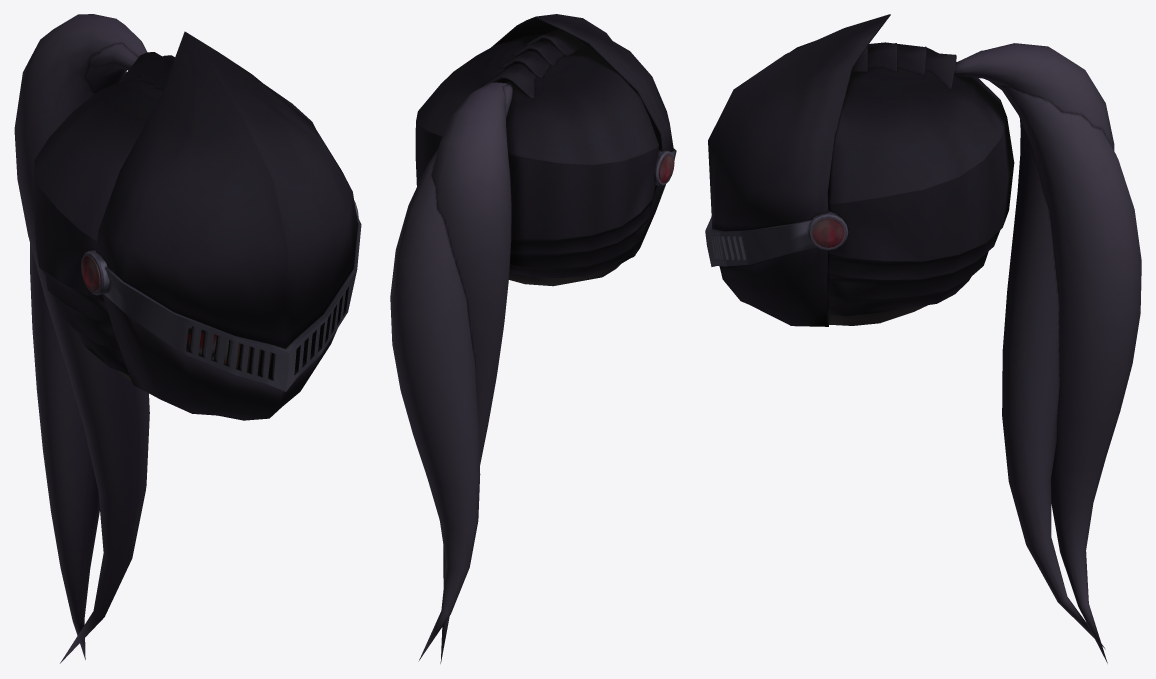
The model's file is BlackKnight_Helmet.fbx.
3 renders of one model, left to right at view 1: azimuth 30°, elevation 25°; view 2: azimuth 150°, elevation 25°; view 3: azimuth 270°, elevation 25°, orthographic. The views are drawn at different scales.
Visible parts, largest first — view 1: BK_Head_W_Helmet; view 2: BK_Head_W_Helmet; view 3: BK_Head_W_Helmet.
Boxes of the visible parts, bbox=[...] form: BK_Head_W_Helmet: bbox=[14, 14, 361, 663]; BK_Head_W_Helmet: bbox=[390, 14, 676, 663]; BK_Head_W_Helmet: bbox=[705, 14, 1141, 663].
Size of the model in its own units: 57.66 by 150 by 92.54.
